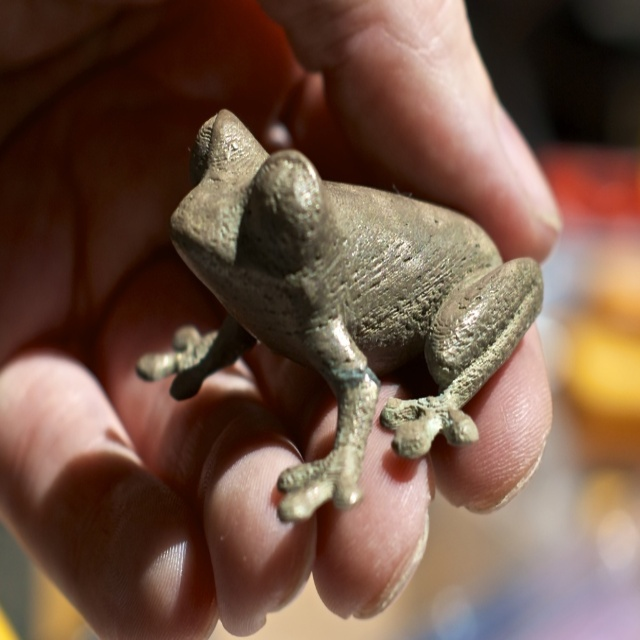Frog: (137, 109, 545, 516)
